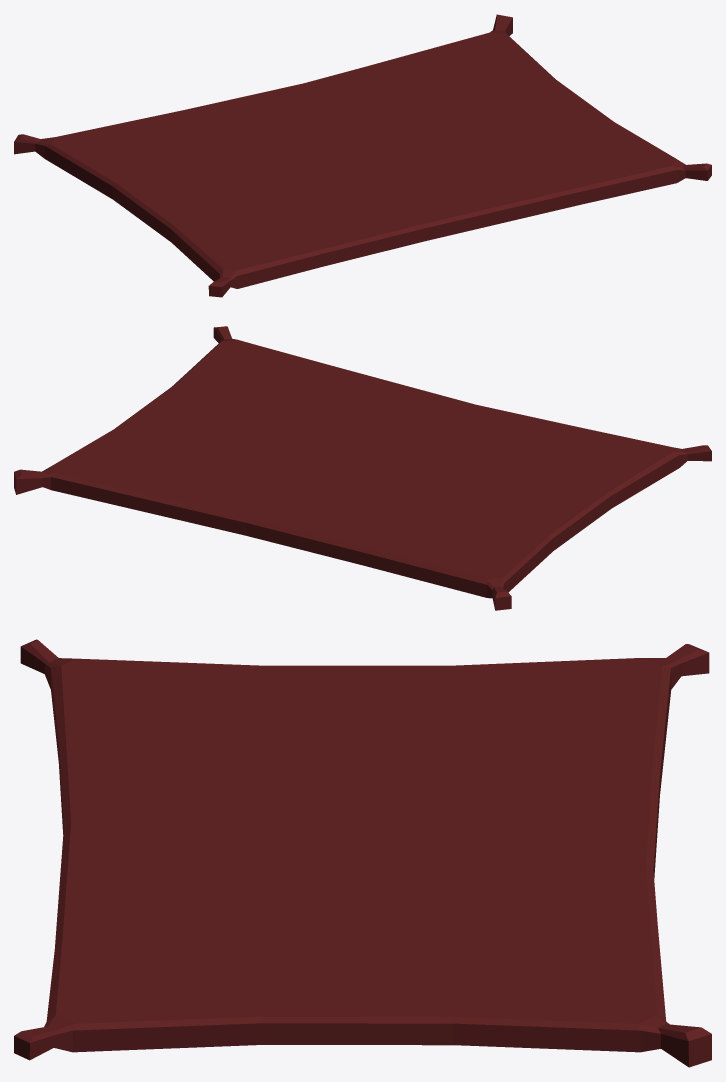
Rendered from Carpet.fbx.
3 views of the same model, one above another, from view 1: azimuth 30°, elevation 25°; view 2: azimuth 150°, elevation 25°; view 3: azimuth 270°, elevation 25° (orthographic). The views are drawn at different scales.
Parts seen in each view (by area): view 1: Carpet; view 2: Carpet; view 3: Carpet.
Part boxes in pixels (<box>): Carpet: <box>14,14,711,297</box>; Carpet: <box>14,326,711,610</box>; Carpet: <box>14,639,711,1067</box>.
Bounding box in the file's own units: 461 × 18.01 × 337.
